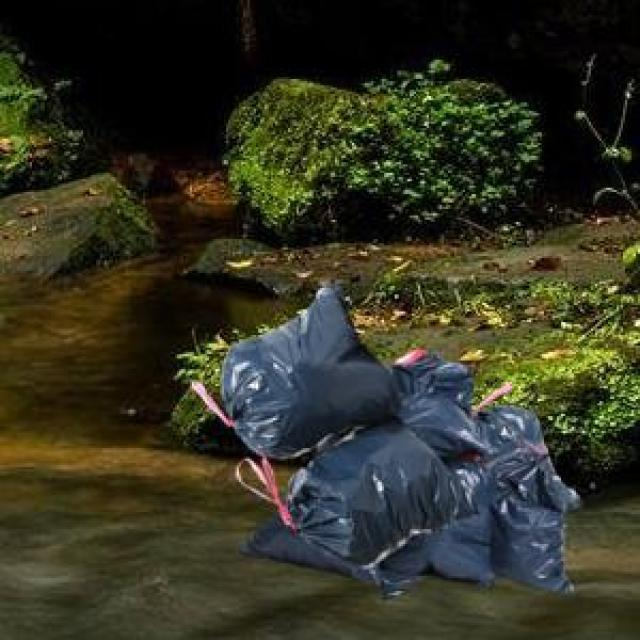miscellaneous trash: (188, 275, 476, 563), (235, 348, 570, 589), (373, 378, 578, 597)
